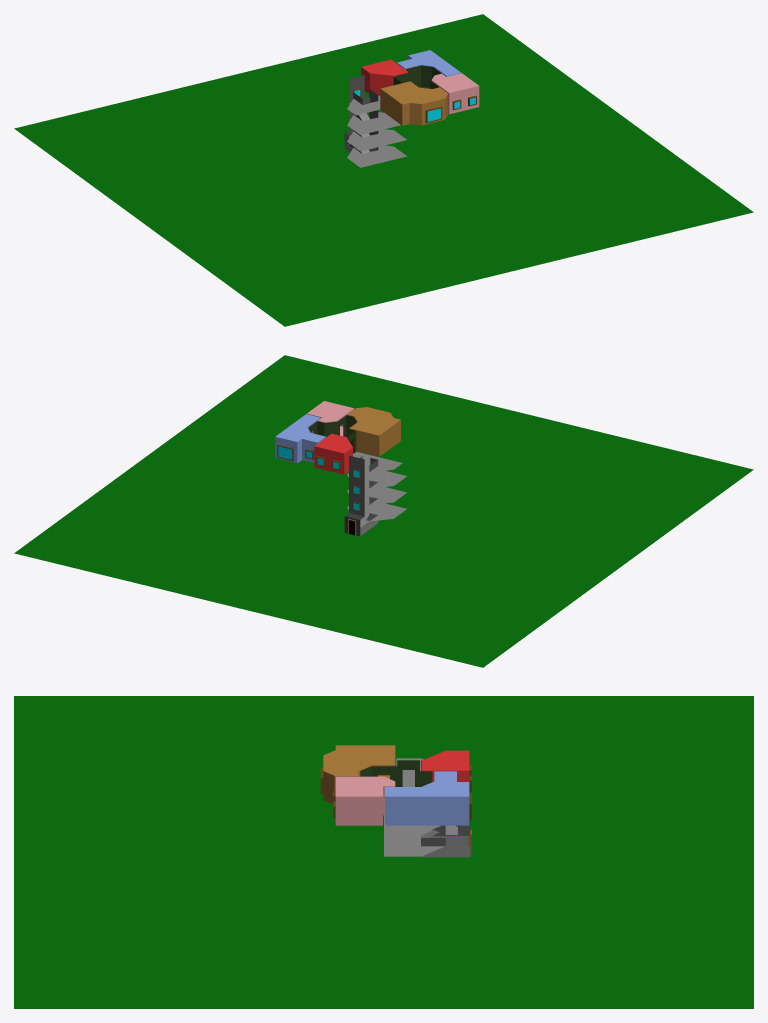
Rendered from level_03_mockup.fbx.
3 renders of one model, top to bottom at view 1: azimuth 30°, elevation 25°; view 2: azimuth 150°, elevation 25°; view 3: azimuth 270°, elevation 25°, orthographic. The views are drawn at different scales.
Parts seen in each view (by area): view 1: Plane.003; view 2: Plane.003; view 3: Plane.003.
Part boxes in pixels (x1,y1,x2,y2): Plane.003: (14,14,753,326); Plane.003: (14,355,753,667); Plane.003: (14,696,753,1008).
Size of the model in its own units: 60 by 60 by 9.62.
